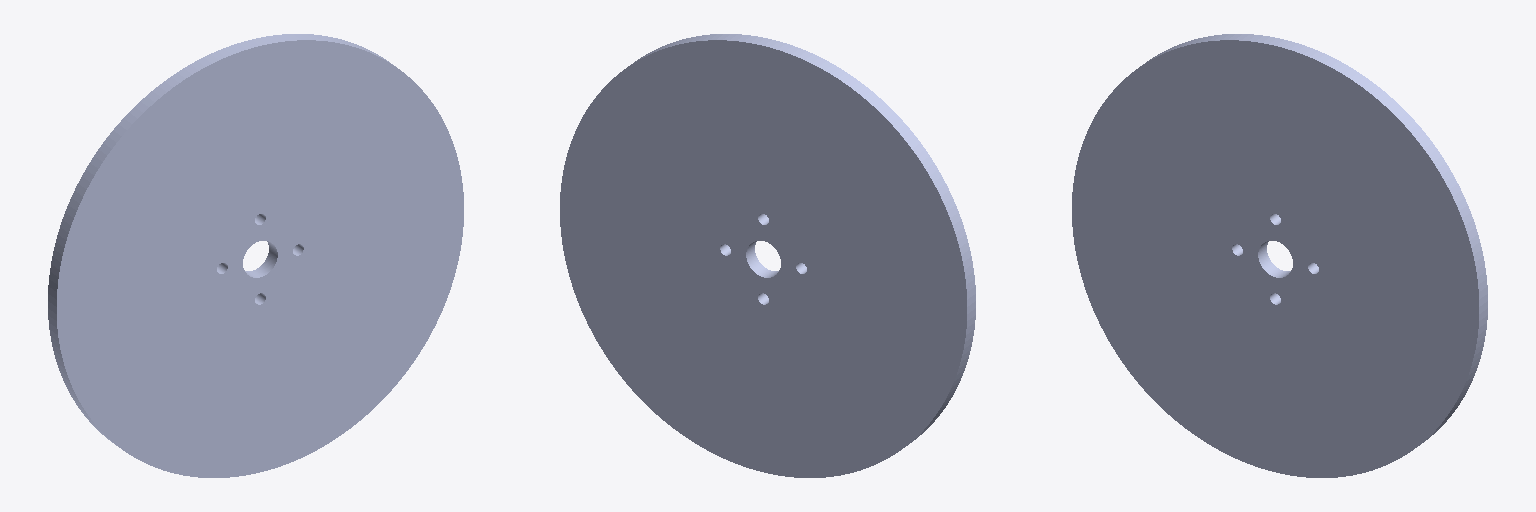
Rendered from rueda_eje_base.obj.
3 views of the same model, side by side, from view 1: azimuth 30°, elevation 25°; view 2: azimuth 150°, elevation 25°; view 3: azimuth 330°, elevation 25° (orthographic).
Parts seen in each view (by area): view 1: Boss_Extrude1; view 2: Boss_Extrude1; view 3: Boss_Extrude1.
Part boxes in pixels (x1,y1,x2,y2): Boss_Extrude1: (48, 34, 463, 477); Boss_Extrude1: (560, 34, 975, 477); Boss_Extrude1: (1072, 34, 1487, 477).
Bounding box in the file's own units: 37.01 × 37.01 × 1.38.